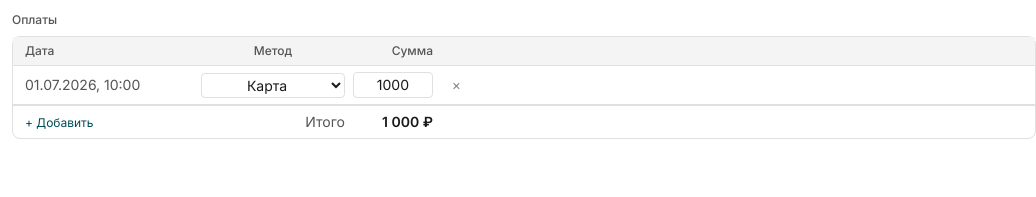
RecordPaymentsTable — drafts isolated from payments prop › draft row renders alongside saved rows
Expected: the element with test id "payment-p1" is shown, [13,66,1035,105]
Click the button with test id "btn-add-payment": [59, 123] box [25,115,94,131]
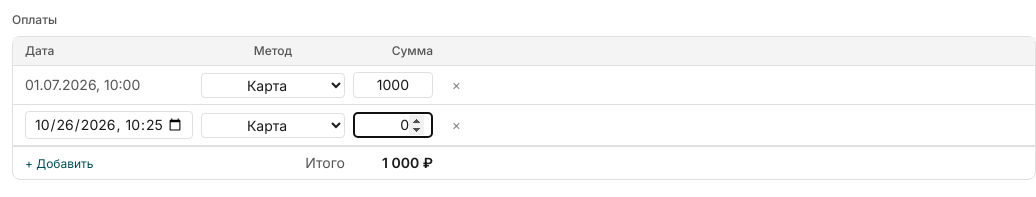
Expected: the element with test id "payment-p1" is shown, [13,66,1035,105]
Result: the element with test id "payment-new" is shown at [13,105,1035,146]
